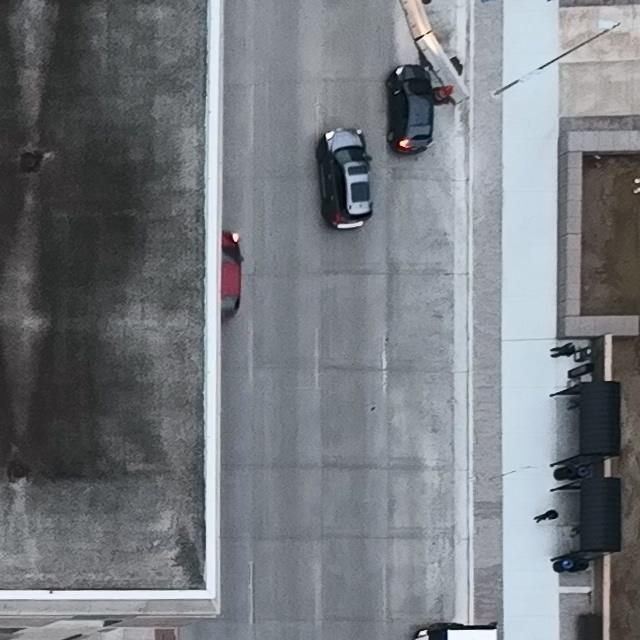car: (314, 128, 372, 231), (385, 66, 434, 155), (220, 231, 243, 318)
